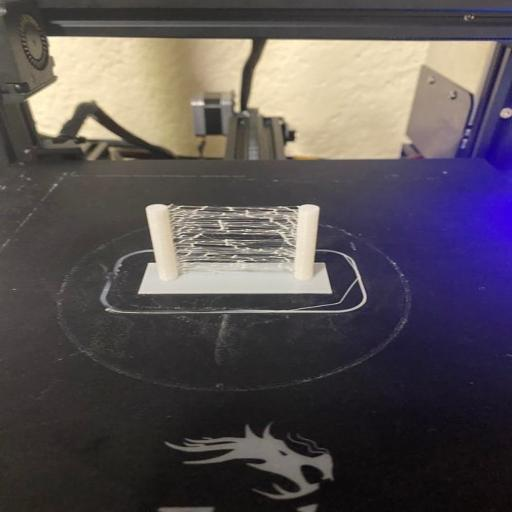stringing: (170, 208, 301, 268)
